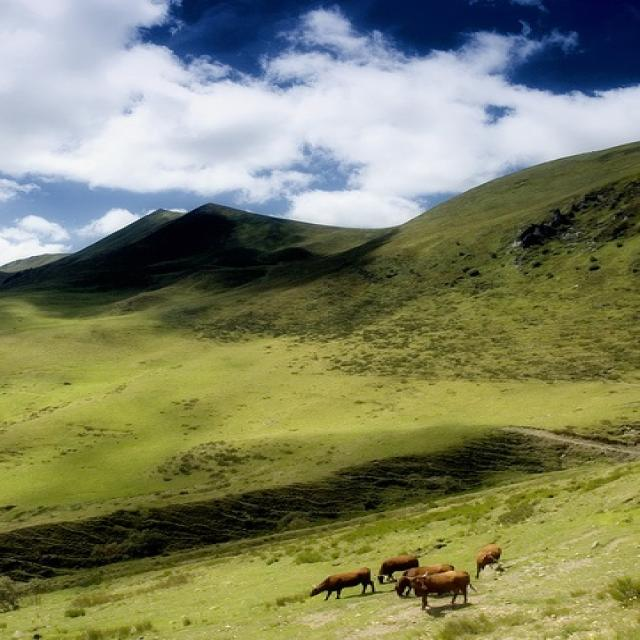cow: (309, 566, 374, 603), (394, 563, 456, 598), (420, 570, 468, 609), (379, 554, 416, 586), (475, 544, 500, 580)
